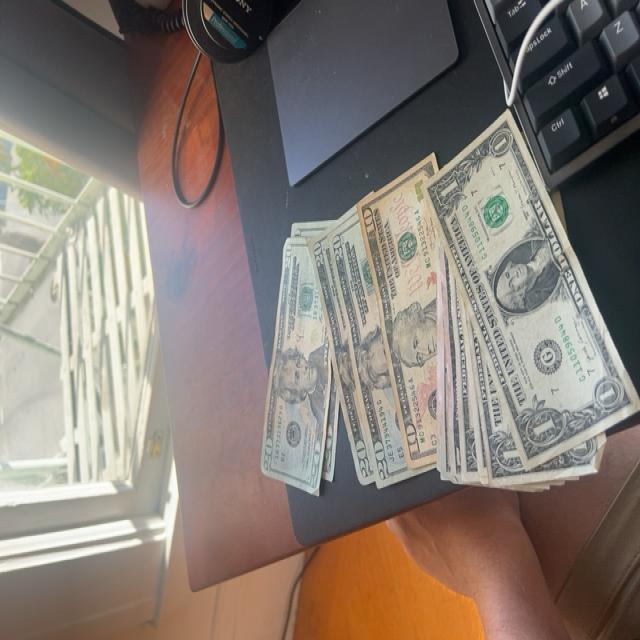five: (452, 252, 544, 488), (441, 241, 453, 482)
one: (421, 109, 640, 472), (452, 276, 580, 482), (457, 282, 566, 486), (470, 323, 607, 481), (458, 294, 550, 490), (466, 305, 566, 482)
ten: (356, 152, 440, 470)
twenty: (328, 212, 438, 490), (306, 190, 375, 487), (260, 237, 333, 498), (290, 220, 340, 483)
